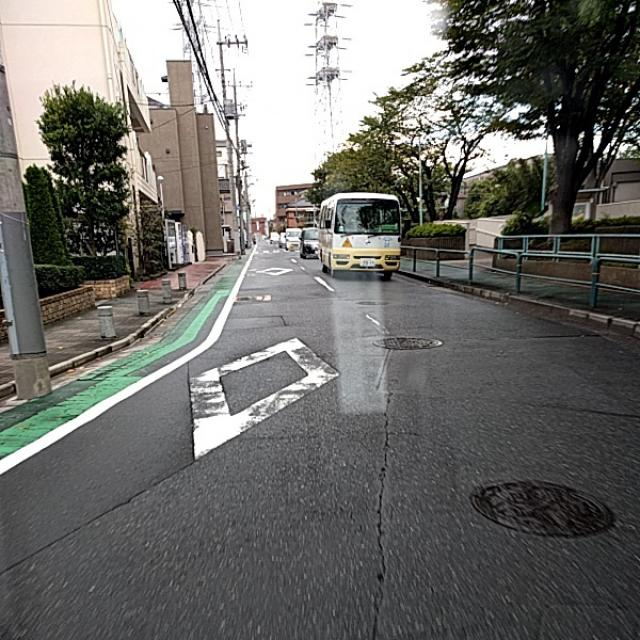pothole: (363, 464, 398, 570)
